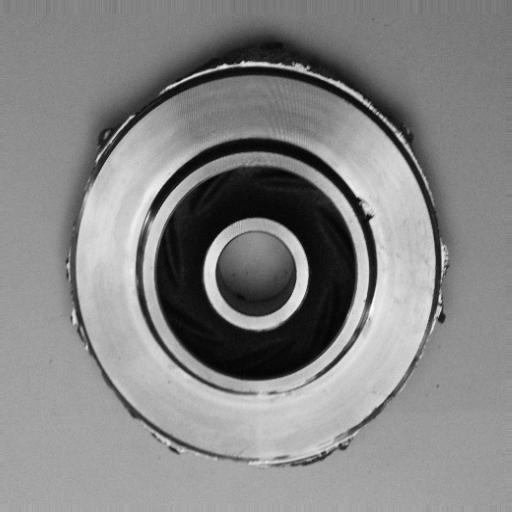casting_with_burr: (58, 45, 452, 477)
crack: (348, 185, 382, 232)
scratch: (240, 379, 322, 406), (352, 290, 383, 359)
